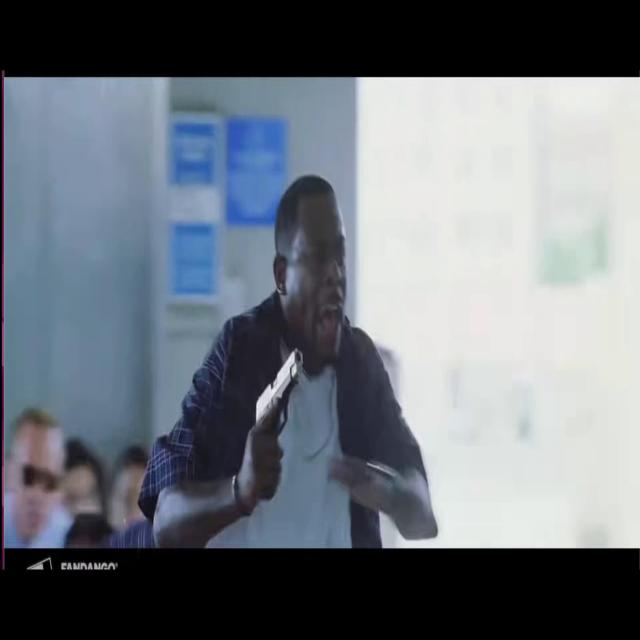weapons: (240, 339, 308, 477)
